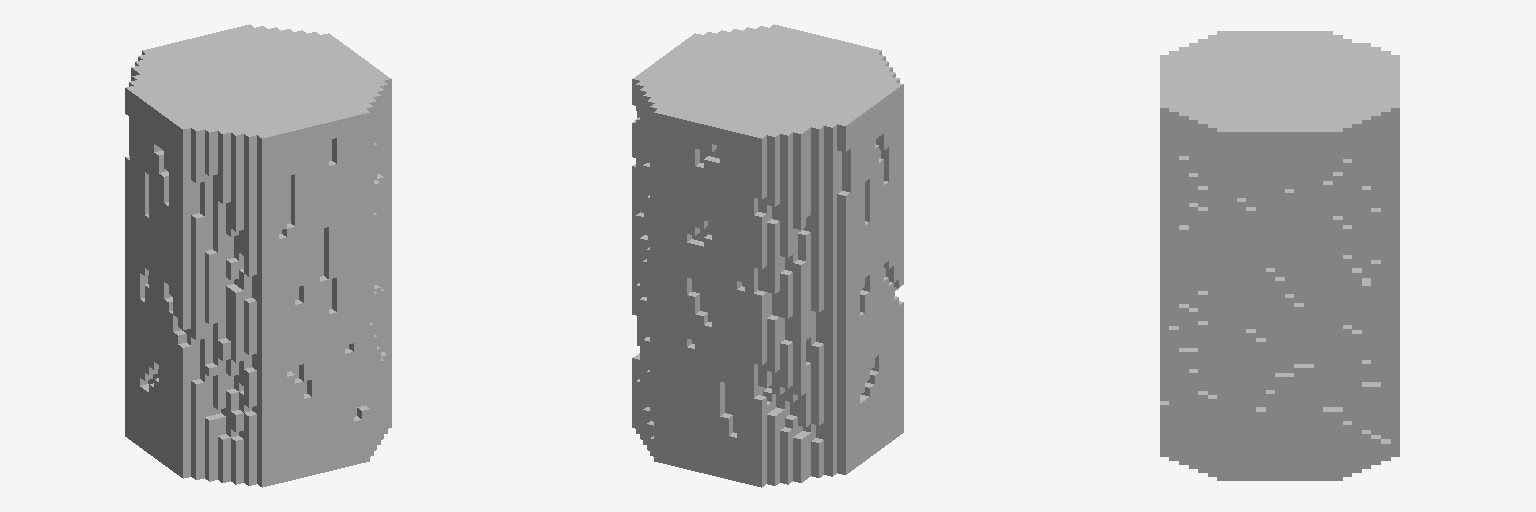
File: woden log.obj
3 renders of one model, left to right at view 1: azimuth 30°, elevation 25°; view 2: azimuth 150°, elevation 25°; view 3: azimuth 270°, elevation 25°, orthographic.
Parts seen in each view (by area): view 1: object 1; view 2: object 1; view 3: object 1.
Part boxes in pixels (x1,y1,x2,y2): object 1: (125, 24, 391, 487); object 1: (632, 24, 903, 487); object 1: (1160, 31, 1399, 480).
Size of the model in its own units: 2.5 by 4 by 2.5.